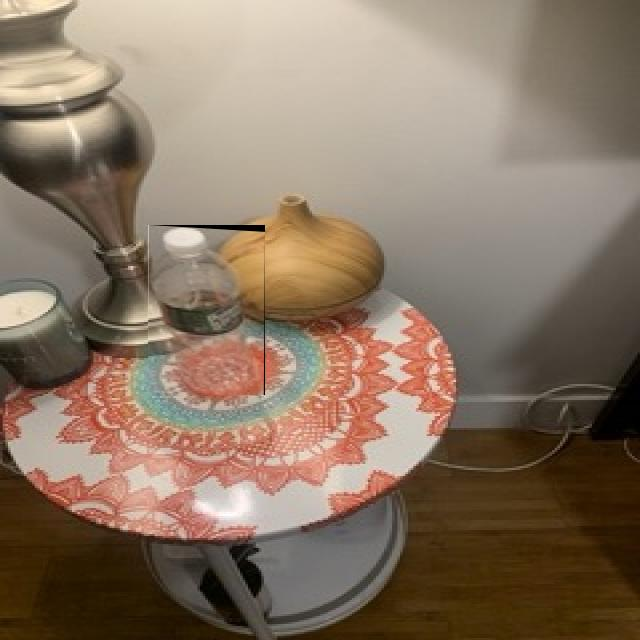water_bottle: (148, 226, 265, 396)
